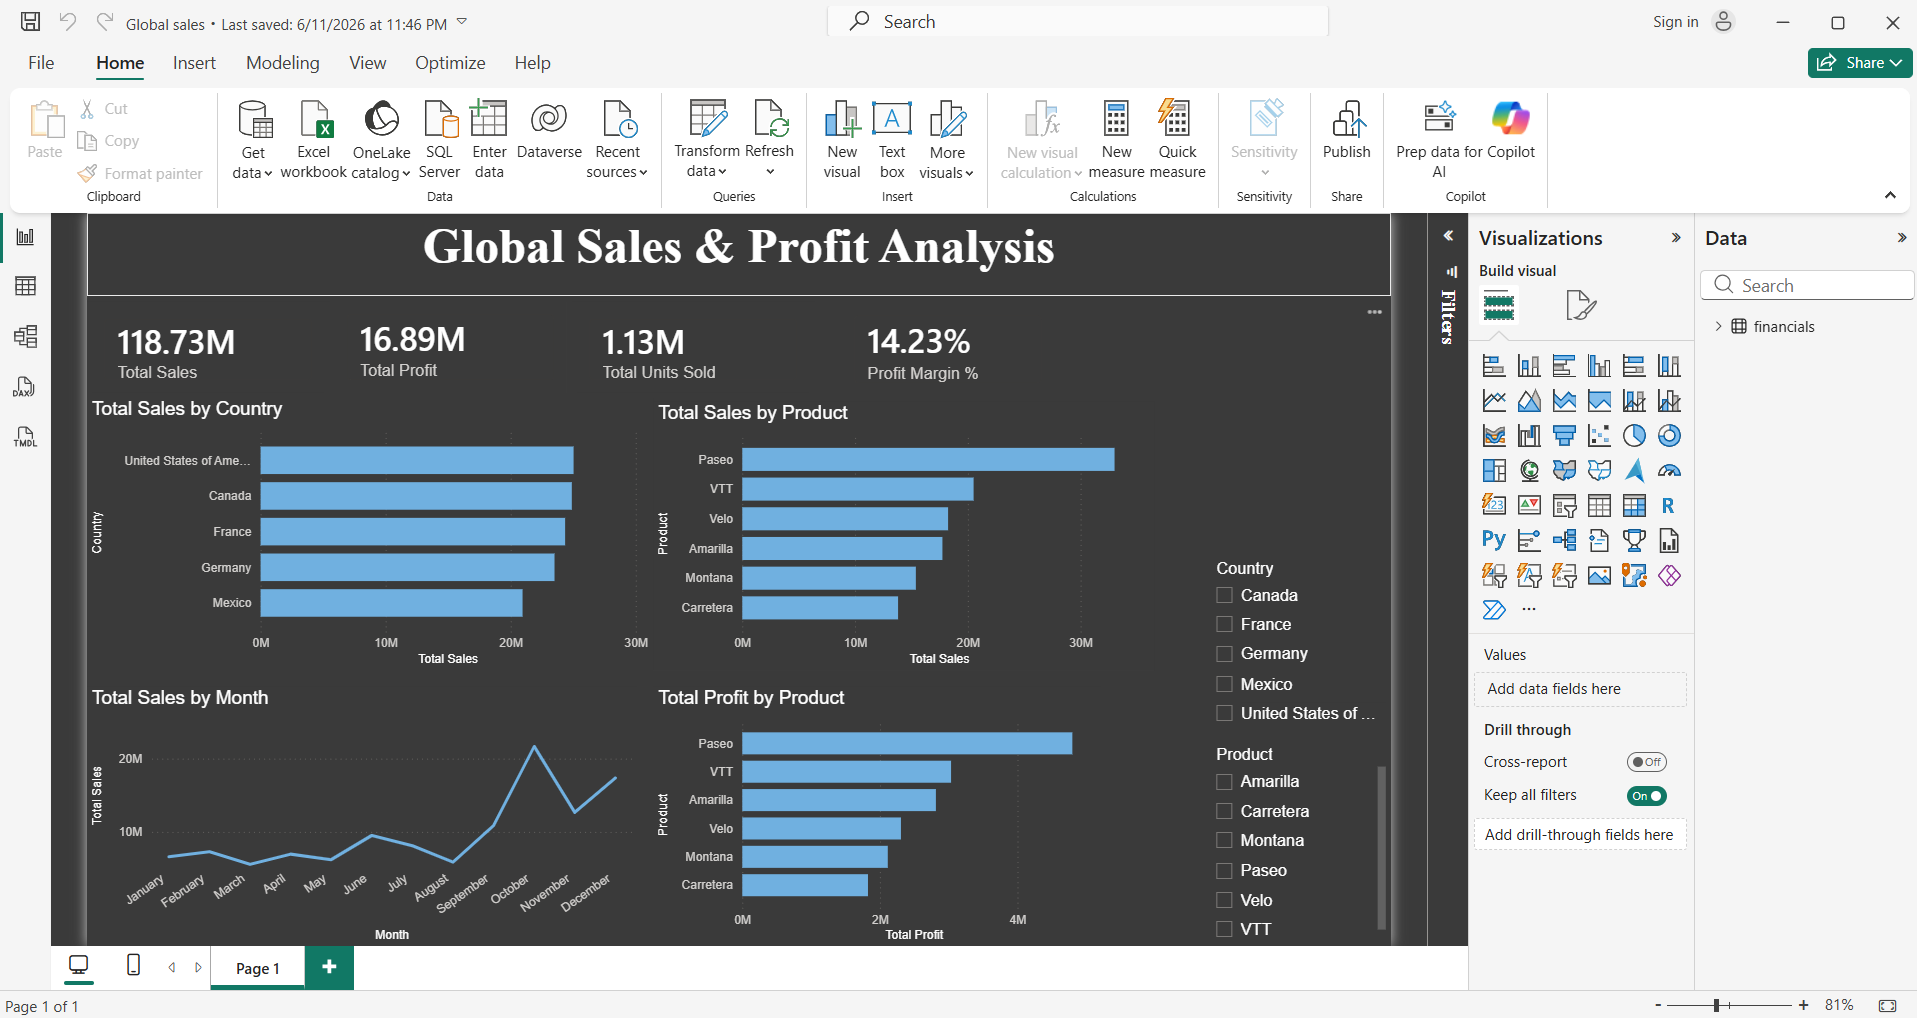

Layout of this report page (visuals, bound fields, positions):
{"tool":"powerbi","page":{"name":"Page 1","canvas":[1280,720],"ordinal":0},"visuals":[{"type":"cardVisual","title":"Total Sales","fields":{"Data":["Sum(financials.Sales)"]},"box":[0,87.1,238,94.5],"z":0},{"type":"cardVisual","fields":{"Data":["Sum(financials.Profit)"]},"box":[238,82.2,238,99.4],"z":1000},{"type":"cardVisual","fields":{"Data":["Sum(financials.Units Sold)"]},"box":[476.1,87.1,238,94.5],"z":2000},{"type":"clusteredBarChart","fields":{"Category":["financials.Country"],"Y":["Sum(financials.Sales)"]},"box":[0,181.6,555.8,267.5],"z":3000},{"type":"lineChart","fields":{"Category":["financials.Month Name"],"Y":["Sum(financials.Sales)"]},"box":[0,465,539.9,255.2],"z":4000},{"type":"slicer","fields":{"Values":["financials.Country"]},"box":[1095.7,335,184.1,182.8],"z":5000},{"type":"slicer","fields":{"Values":["financials.Product"]},"box":[1095.7,517.8,184.1,202.5],"z":6000},{"type":"textbox","box":[0,0,1279.8,82.2],"z":7000},{"type":"cardVisual","fields":{"Data":["financials.Profit Margin %"]},"box":[736.2,83.4,218.4,101.8],"z":7001},{"type":"clusteredBarChart","fields":{"Y":["Sum(financials.Sales)"],"Category":["financials.Product"]},"box":[555.8,185.3,492,263.8],"z":7002},{"type":"clusteredBarChart","fields":{"Y":["Sum(financials.Profit)"],"Category":["financials.Product"]},"box":[555.8,465,439.3,255.2],"z":7003}]}

Visuals, with their boxes on the page's 1280x720 design canvas (x1, y1, x2, y2). These are canvas units, not pixel positions in the 1917x1018 screenshot, which may show the page scaled, cropped or inside an application window:
"Total Sales" cardVisual: pyautogui.locateOnScreen(0, 87, 238, 182)
cardVisual - Sum(financials.Profit): pyautogui.locateOnScreen(238, 82, 476, 182)
cardVisual - Sum(financials.Units Sold): pyautogui.locateOnScreen(476, 87, 714, 182)
clusteredBarChart - financials.Country x Sum(financials.Sales): pyautogui.locateOnScreen(0, 182, 556, 449)
lineChart - financials.Month Name x Sum(financials.Sales): pyautogui.locateOnScreen(0, 465, 540, 720)
slicer - financials.Country: pyautogui.locateOnScreen(1096, 335, 1280, 518)
slicer - financials.Product: pyautogui.locateOnScreen(1096, 518, 1280, 720)
textbox: pyautogui.locateOnScreen(0, 0, 1280, 82)
cardVisual - financials.Profit Margin %: pyautogui.locateOnScreen(736, 83, 955, 185)
clusteredBarChart - Sum(financials.Sales) x financials.Product: pyautogui.locateOnScreen(556, 185, 1048, 449)
clusteredBarChart - Sum(financials.Profit) x financials.Product: pyautogui.locateOnScreen(556, 465, 995, 720)
